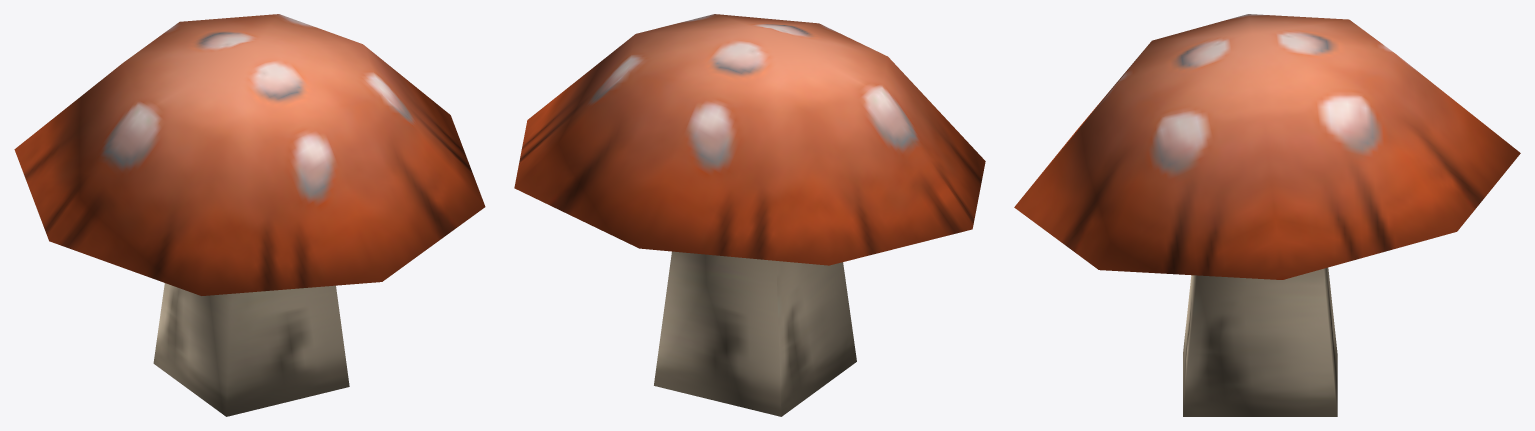
File: mushroomA.fbx
3 renders of one model, left to right at view 1: azimuth 30°, elevation 25°; view 2: azimuth 150°, elevation 25°; view 3: azimuth 270°, elevation 25°, orthographic. The views are drawn at different scales.
Parts seen in each view (by area): view 1: mushroomA; view 2: mushroomA; view 3: mushroomA.
Boxes of the visible parts, box(x1,y1,x2,y2) form: mushroomA: box(14, 14, 485, 416); mushroomA: box(514, 14, 985, 416); mushroomA: box(1014, 14, 1520, 416).
Size of the model in its own units: 42.6 by 32.34 by 42.45.
Materials: 1 (1 with a texture image).
